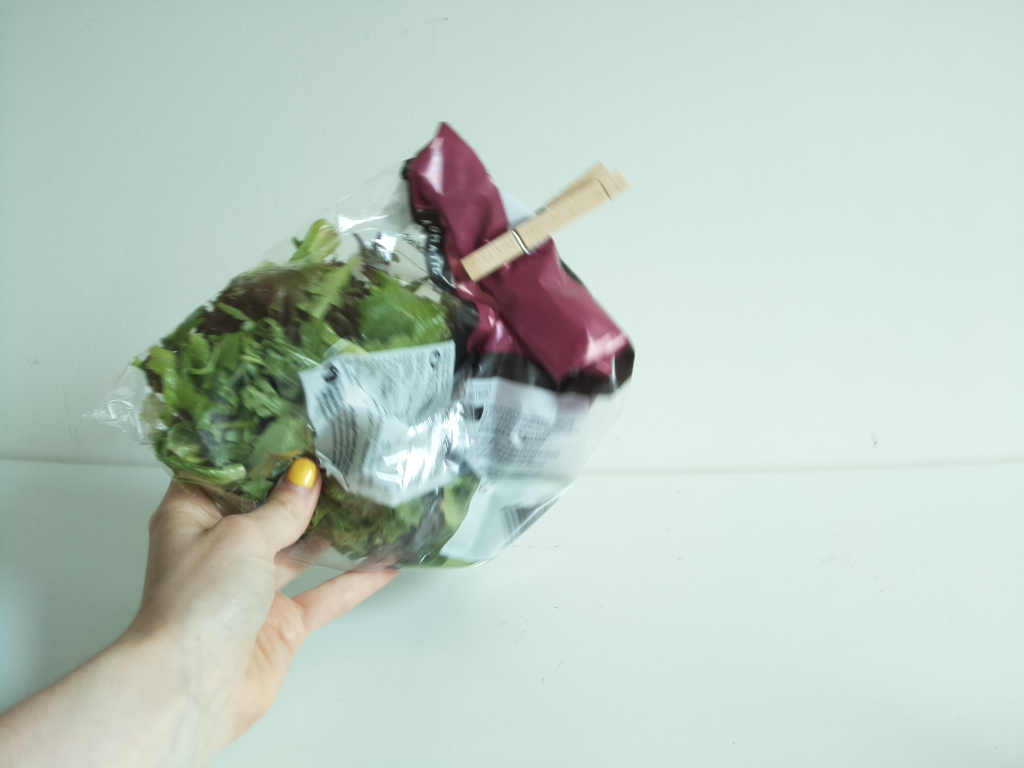salad: (140, 128, 636, 577)
